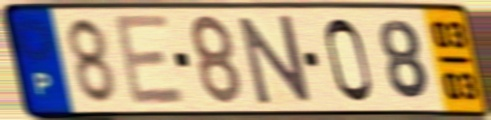0: (323, 15, 375, 105)
8: (64, 15, 122, 108), (189, 12, 243, 109), (378, 17, 432, 102)
E: (110, 12, 189, 111)
N: (235, 12, 315, 108)
